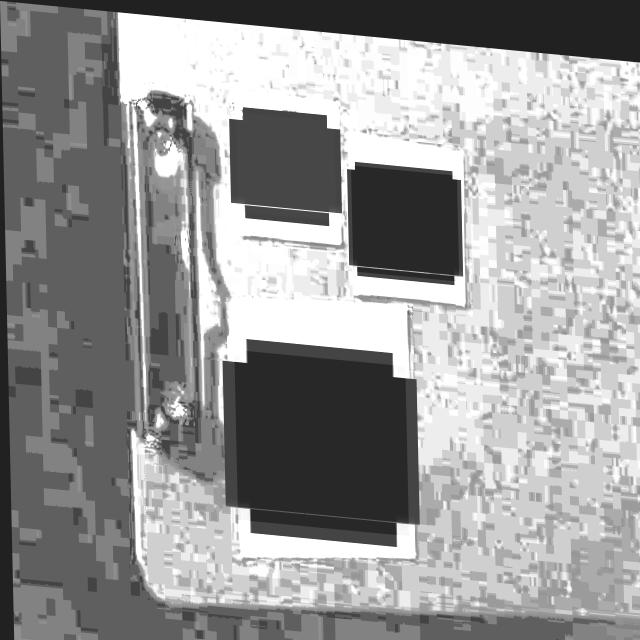qr_code: (233, 344, 407, 527), (350, 157, 458, 271), (236, 107, 335, 213)
